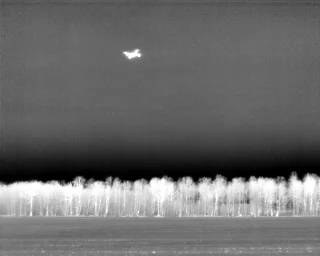DRONE: (119, 44, 146, 64)
